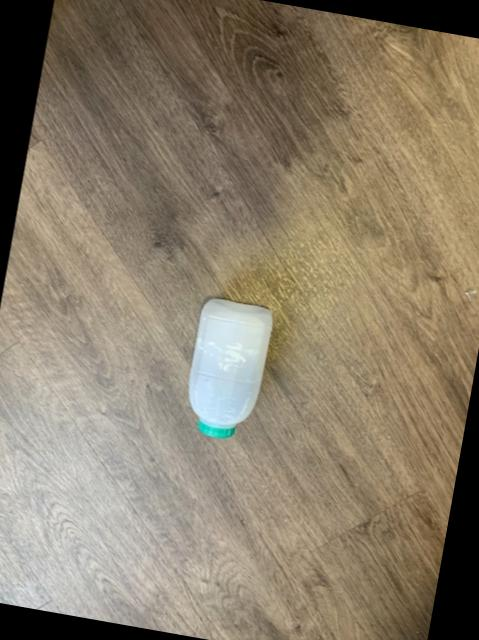plastic: (189, 300, 272, 439)
